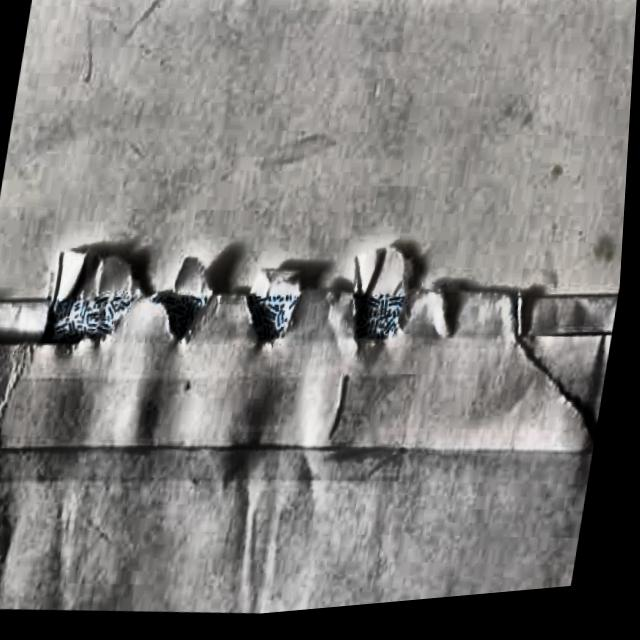Paper: (0, 178, 630, 640)
